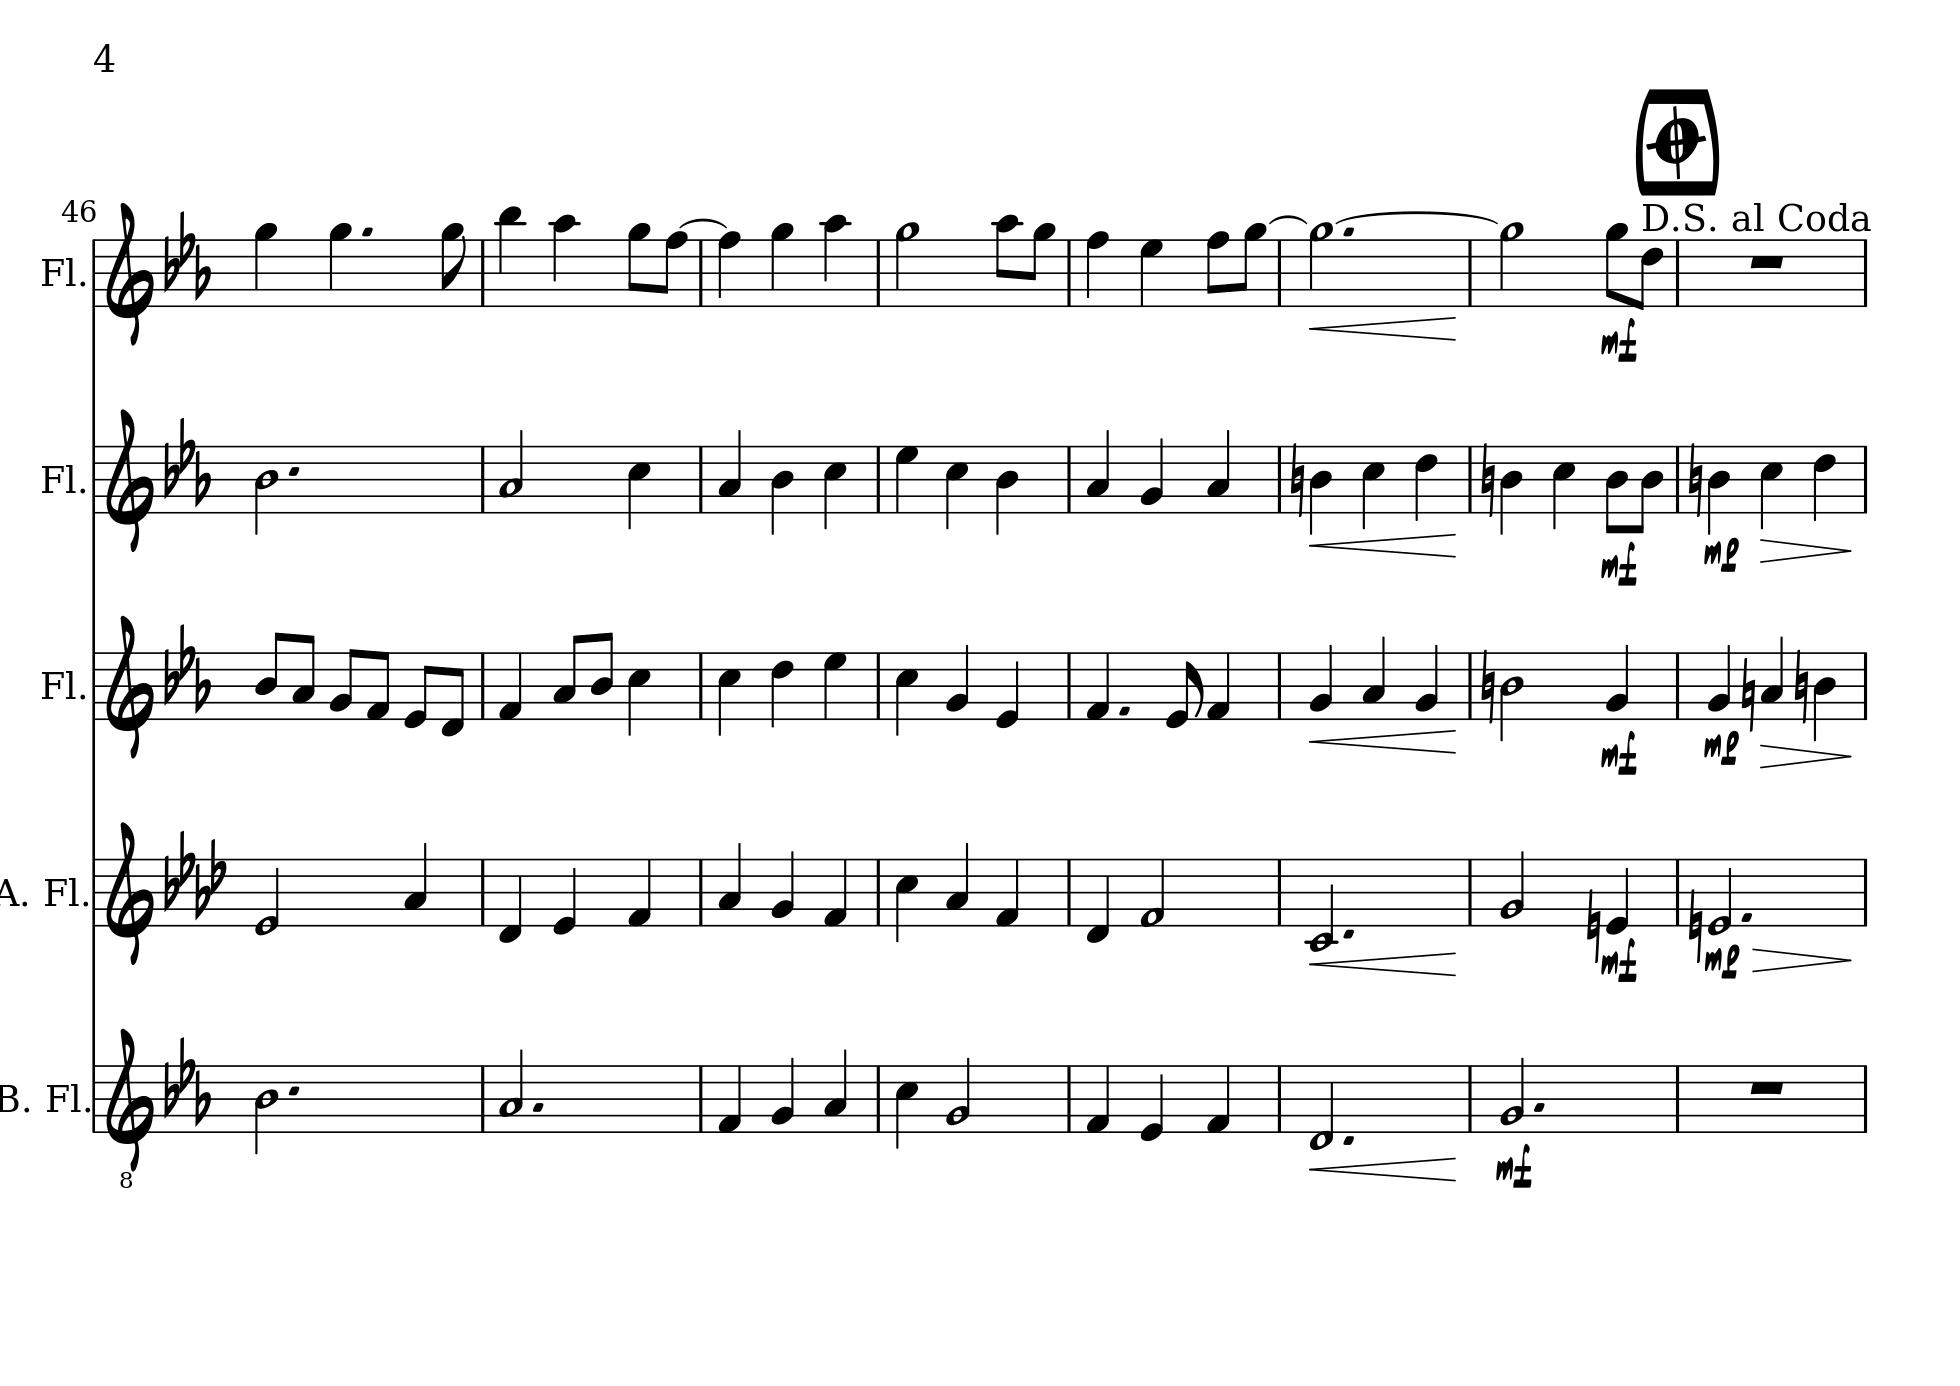2_-1: (1308, 1062, 1335, 1150)
2_-2: (1305, 856, 1338, 952)
2_0: (253, 855, 280, 936), (1707, 855, 1734, 934)
2_1: (1140, 856, 1167, 928)
2_2: (1497, 847, 1527, 927), (1498, 1054, 1527, 1134), (943, 1054, 972, 1132)
2_3: (498, 429, 525, 514), (498, 1050, 523, 1132)
2_4: (253, 442, 280, 535), (1498, 649, 1525, 742), (253, 1063, 279, 1156)
2_9: (892, 220, 921, 309), (1308, 220, 1333, 309), (1500, 220, 1525, 309)
4: (93, 39, 117, 75), (60, 196, 78, 225)
4_-1: (496, 855, 523, 945), (1086, 855, 1110, 945)
4_0: (550, 856, 577, 936), (996, 649, 1021, 730), (1140, 1062, 1165, 1143), (1605, 856, 1630, 934)
4_1: (496, 649, 523, 721), (625, 856, 652, 928), (715, 1063, 742, 1135), (1084, 1063, 1111, 1134), (1086, 649, 1111, 721), (1207, 649, 1233, 721), (822, 856, 847, 928), (996, 856, 1021, 928), (1206, 1063, 1231, 1134)
4_10: (820, 213, 850, 309), (550, 211, 579, 309)
4_11: (495, 205, 523, 307)
4_2: (943, 640, 970, 721), (769, 847, 796, 928), (1308, 642, 1335, 721), (769, 1054, 796, 1134), (1413, 642, 1440, 720), (1705, 642, 1732, 720), (1605, 640, 1630, 721), (1140, 436, 1165, 514)
4_3: (1086, 427, 1111, 514), (1206, 427, 1231, 514), (402, 841, 427, 928), (717, 429, 742, 514), (717, 841, 742, 927), (1362, 634, 1387, 718), (945, 841, 970, 925), (1761, 634, 1785, 721), (823, 1048, 847, 1132)
4_4: (1498, 442, 1524, 535), (1812, 649, 1837, 742), (769, 444, 795, 535), (994, 444, 1020, 535), (1309, 442, 1333, 535), (1707, 442, 1731, 535)
4_5: (943, 442, 970, 532), (1551, 442, 1578, 531), (1758, 444, 1785, 529), (625, 442, 651, 531), (822, 442, 847, 531), (715, 649, 741, 738), (894, 649, 919, 738), (1360, 442, 1386, 529), (625, 649, 651, 736), (894, 856, 919, 943), (894, 1063, 919, 1150)
4_6: (1413, 442, 1440, 523), (769, 649, 795, 730), (1812, 442, 1836, 522)
4_7: (820, 649, 847, 721), (892, 444, 919, 514), (1138, 237, 1164, 307)
4_8: (715, 228, 742, 309), (1084, 229, 1110, 309)
4_9: (327, 220, 352, 309), (769, 220, 795, 309), (253, 220, 277, 307)
6: (79, 196, 97, 223)
8_-1: (439, 649, 466, 739)
8_0: (1167, 649, 1204, 729), (402, 649, 433, 730)
8_1: (364, 649, 391, 721)
8_10: (993, 213, 1021, 307)
8_2: (328, 646, 358, 720)
8_3: (550, 633, 583, 721), (289, 633, 316, 721)
8_4: (1632, 442, 1665, 535), (253, 630, 286, 720), (1605, 442, 1629, 535), (589, 630, 613, 720)
8_6: (1635, 238, 1665, 312)
8_8: (658, 229, 690, 307), (1206, 229, 1230, 307)
8_9: (1026, 220, 1057, 309), (1236, 222, 1267, 307), (439, 220, 466, 309), (625, 220, 651, 309), (1605, 220, 1629, 309)
A_F: (163, 826, 226, 919), (163, 619, 211, 714), (163, 1032, 211, 1126), (162, 208, 211, 300)
Coda: (1650, 103, 1704, 177)
Crescendo_hairpin: (1309, 724, 1459, 762), (1308, 946, 1459, 979), (1315, 529, 1456, 562), (1314, 312, 1459, 343), (1312, 1155, 1458, 1186)
DSalcoda: (1641, 199, 1873, 234)
Diminuendo_hairpin: (1750, 946, 1852, 973), (1758, 742, 1854, 769), (1759, 537, 1854, 564)
E_F: (160, 414, 211, 505)
Fl: (39, 666, 78, 703), (42, 873, 81, 910), (37, 253, 76, 289), (39, 460, 78, 496), (43, 1080, 82, 1114)
Gclef: (103, 817, 156, 966), (103, 613, 156, 760), (103, 406, 154, 553), (105, 199, 154, 346)
Lower_Gclef: (103, 1027, 154, 1191)
Natural: (1479, 439, 1497, 517), (1686, 439, 1704, 517), (1479, 646, 1497, 723), (1740, 655, 1758, 732), (1584, 886, 1602, 958), (1290, 439, 1306, 517), (1794, 646, 1810, 724), (1687, 889, 1704, 952)
Rests1: (1746, 250, 1788, 271), (1746, 1077, 1788, 1096)
Single_barline: (691, 858, 709, 925), (870, 238, 888, 304), (693, 240, 711, 304), (691, 652, 709, 717), (870, 652, 888, 717), (1857, 445, 1873, 513), (1272, 445, 1288, 513), (474, 651, 490, 718), (1060, 858, 1077, 925), (1857, 858, 1873, 925), (1669, 238, 1686, 304), (1062, 238, 1078, 304), (1272, 240, 1288, 306), (1857, 240, 1873, 306), (871, 445, 888, 511), (693, 445, 709, 511), (1462, 445, 1479, 511), (1060, 652, 1077, 718), (1272, 652, 1288, 718), (1462, 652, 1479, 718), (1857, 652, 1873, 718), (870, 859, 886, 925), (693, 1065, 709, 1131), (1857, 1065, 1873, 1131), (1669, 1066, 1686, 1132), (474, 240, 490, 304), (1464, 240, 1480, 304), (1272, 1066, 1288, 1131), (475, 445, 490, 511), (1062, 445, 1077, 511), (1671, 445, 1686, 511), (475, 859, 490, 925), (1272, 859, 1287, 925), (1464, 859, 1479, 925), (1671, 859, 1686, 925), (1671, 652, 1686, 717), (871, 1065, 886, 1129), (475, 1066, 490, 1131), (1062, 1066, 1077, 1131), (1464, 1066, 1479, 1131), (87, 445, 100, 514), (87, 1063, 100, 1132), (88, 856, 100, 927), (88, 238, 100, 307), (88, 651, 100, 720)
Slur: (1335, 210, 1503, 228), (678, 217, 729, 229), (1269, 214, 1308, 226)
dot: (358, 223, 375, 238), (285, 463, 301, 478), (1341, 925, 1356, 942), (1740, 907, 1755, 922), (1341, 1132, 1356, 1147), (1117, 703, 1132, 717), (286, 1083, 301, 1096), (529, 1099, 544, 1113), (1531, 1099, 1546, 1113), (1342, 225, 1356, 238)
mf: (1599, 727, 1641, 777), (1494, 1141, 1536, 1189), (1600, 316, 1639, 364), (1600, 541, 1639, 588), (1602, 936, 1639, 984)
mp: (1702, 940, 1743, 979), (1702, 727, 1741, 766), (1702, 535, 1741, 573)
